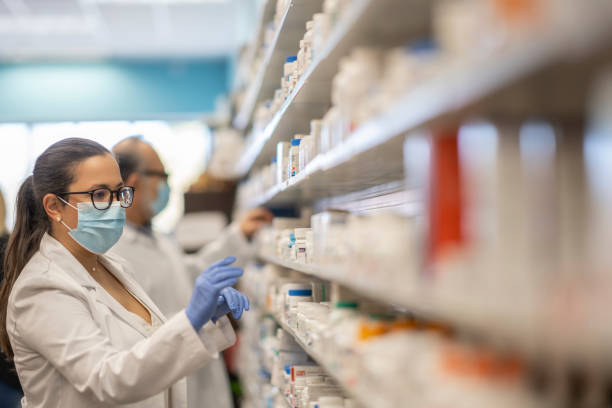with mask: (58, 137, 134, 262), (128, 134, 175, 218)
